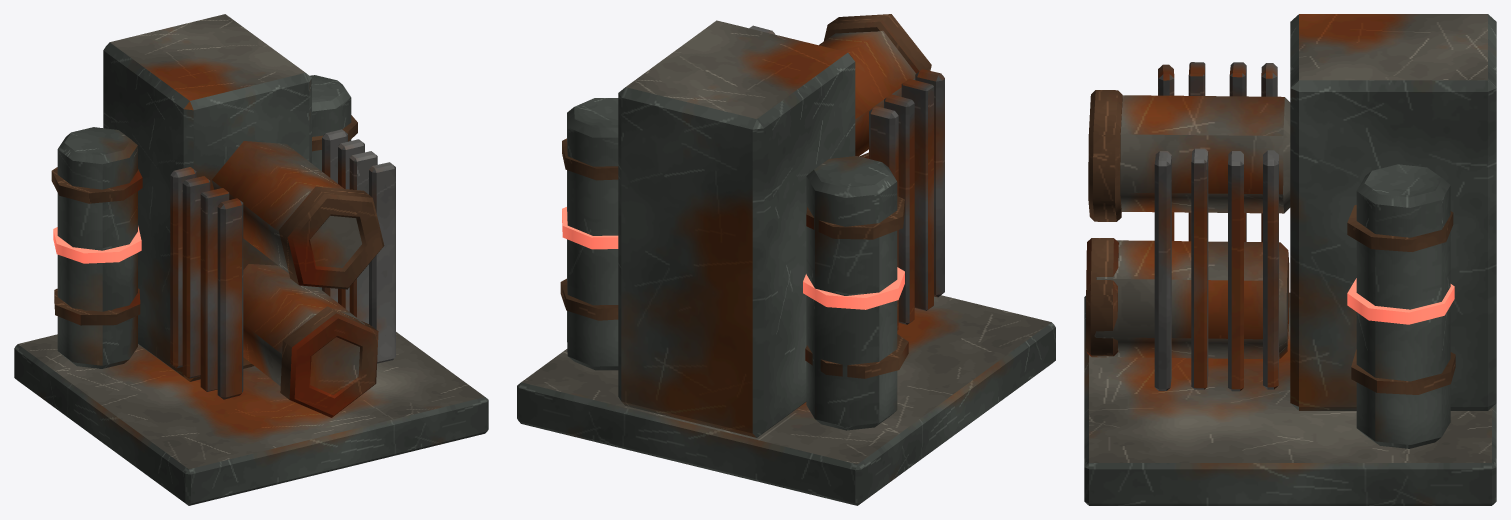
File: R4X_DoubleShotOverdrive_LOD1.glb
The picture shows the model from 3 angles, left to right: view 1: azimuth 30°, elevation 25°; view 2: azimuth 150°, elevation 25°; view 3: azimuth 270°, elevation 25°; orthographic projection. The views are drawn at different scales.
Parts seen in each view (by area): view 1: R4X_DoubleShotOverdrive_LOD1; view 2: R4X_DoubleShotOverdrive_LOD1; view 3: R4X_DoubleShotOverdrive_LOD1.
Boxes of the visible parts, bbox=[...] form: R4X_DoubleShotOverdrive_LOD1: bbox=[14, 14, 488, 505]; R4X_DoubleShotOverdrive_LOD1: bbox=[517, 14, 1055, 505]; R4X_DoubleShotOverdrive_LOD1: bbox=[1084, 14, 1496, 505].
Bounding box in the file's own units: 0.52 × 0.52 × 0.52.
Materials: 5 (4 with a texture image).
